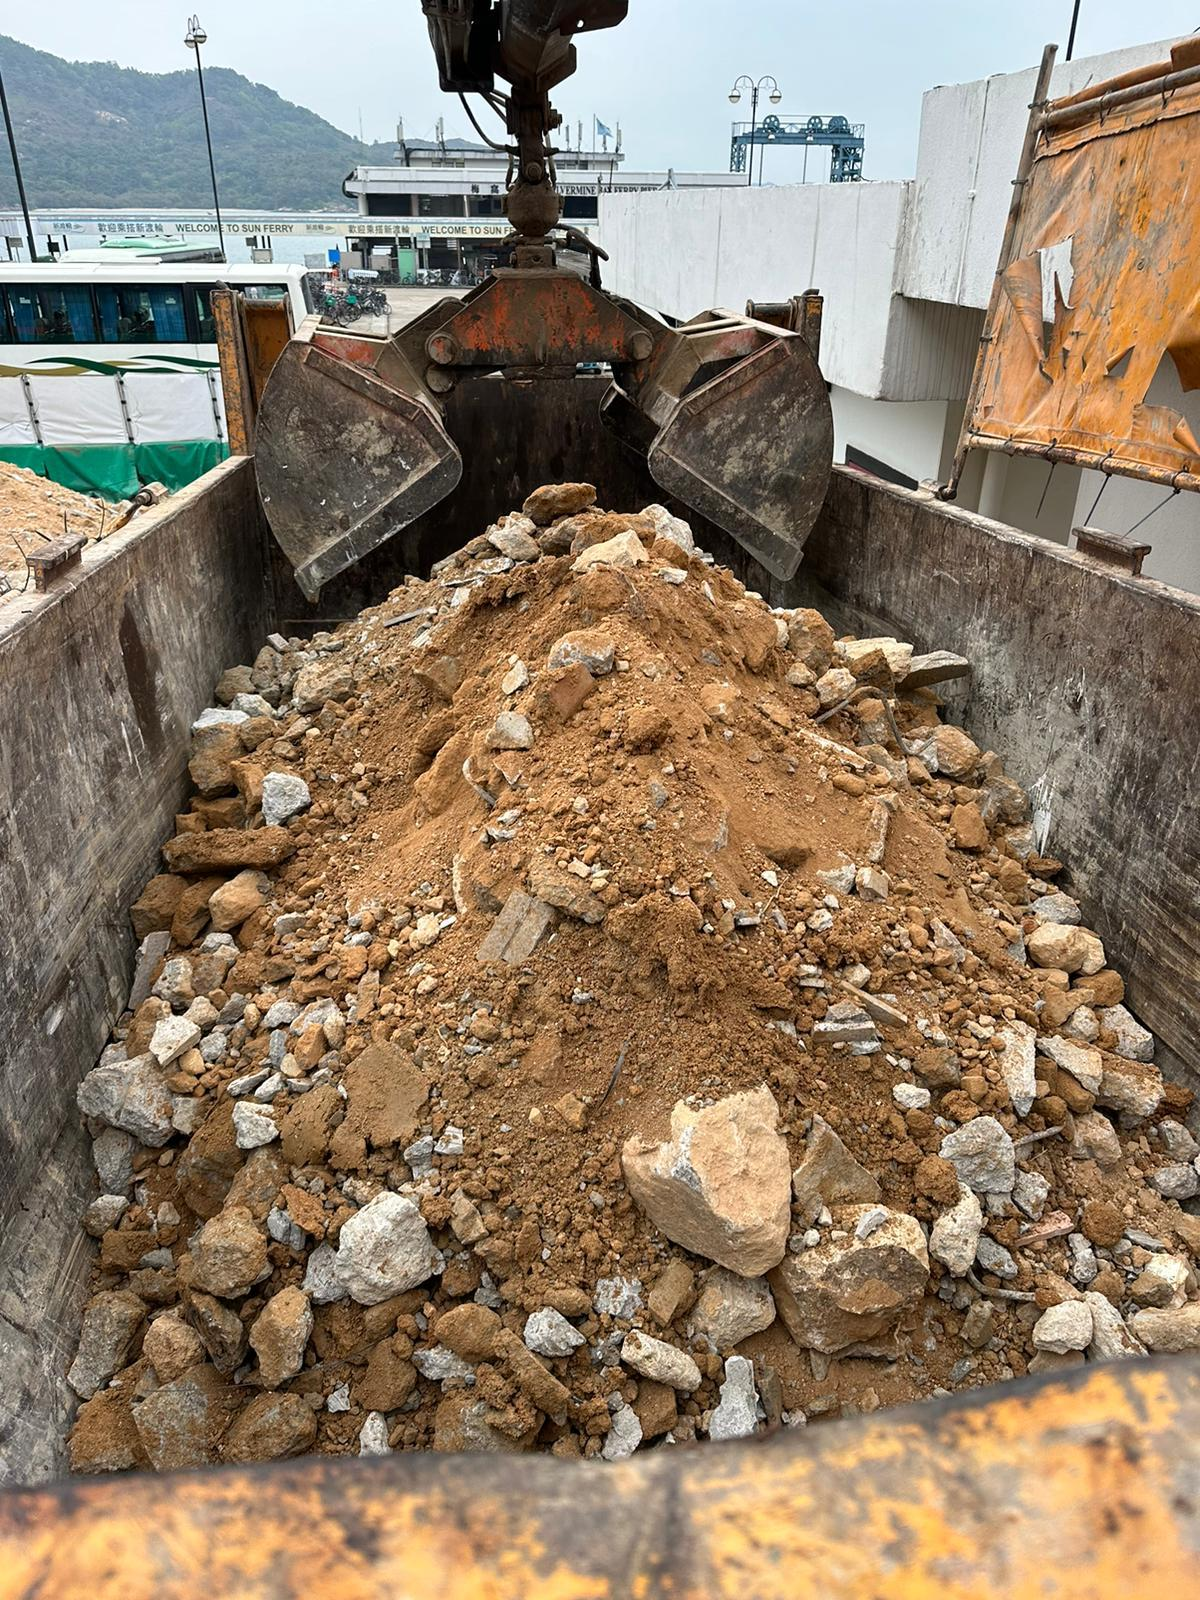dry: (117, 485, 1177, 1361)
